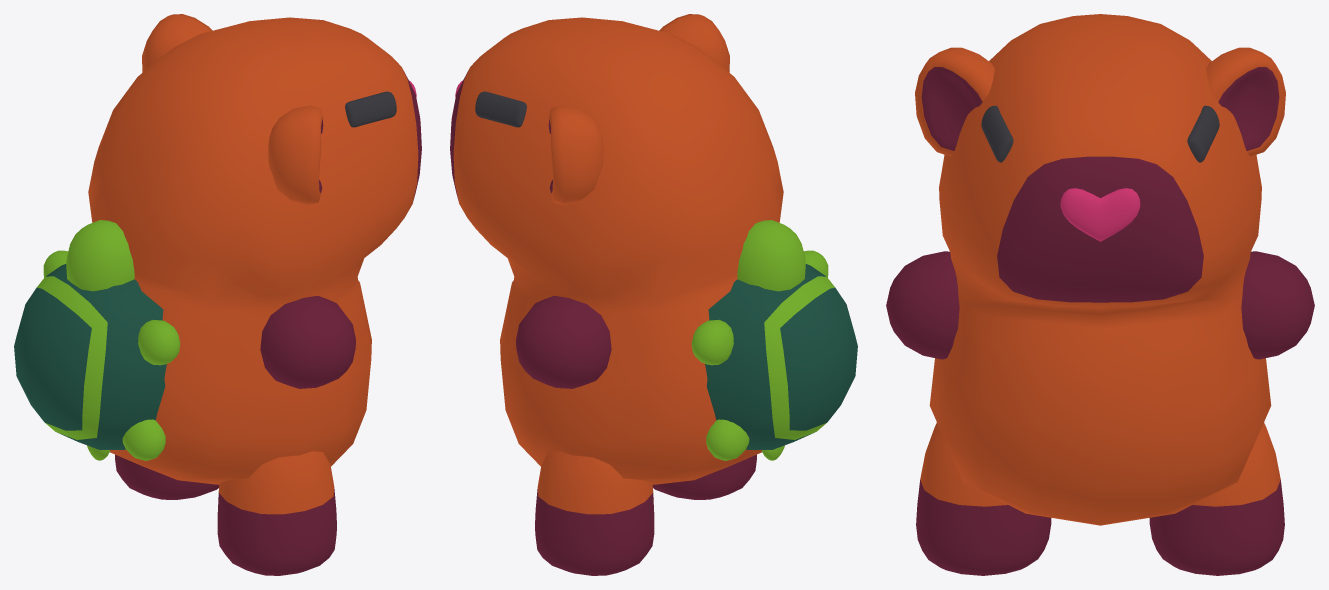
Rendered from capybara.glb.
3 views of the same model, side by side, from view 1: azimuth 30°, elevation 25°; view 2: azimuth 150°, elevation 25°; view 3: azimuth 270°, elevation 25° (orthographic). The views are drawn at different scales.
Visible parts, largest first — view 1: Cube; view 2: Cube; view 3: Cube.
Part boxes in pixels (box(x1,y1,x2,y2)): Cube: box(14, 14, 421, 575); Cube: box(450, 14, 857, 575); Cube: box(886, 14, 1314, 575).
Size of the model in its own units: 1.51 by 1.85 by 1.31.
Materials: 1 (1 with a texture image).
